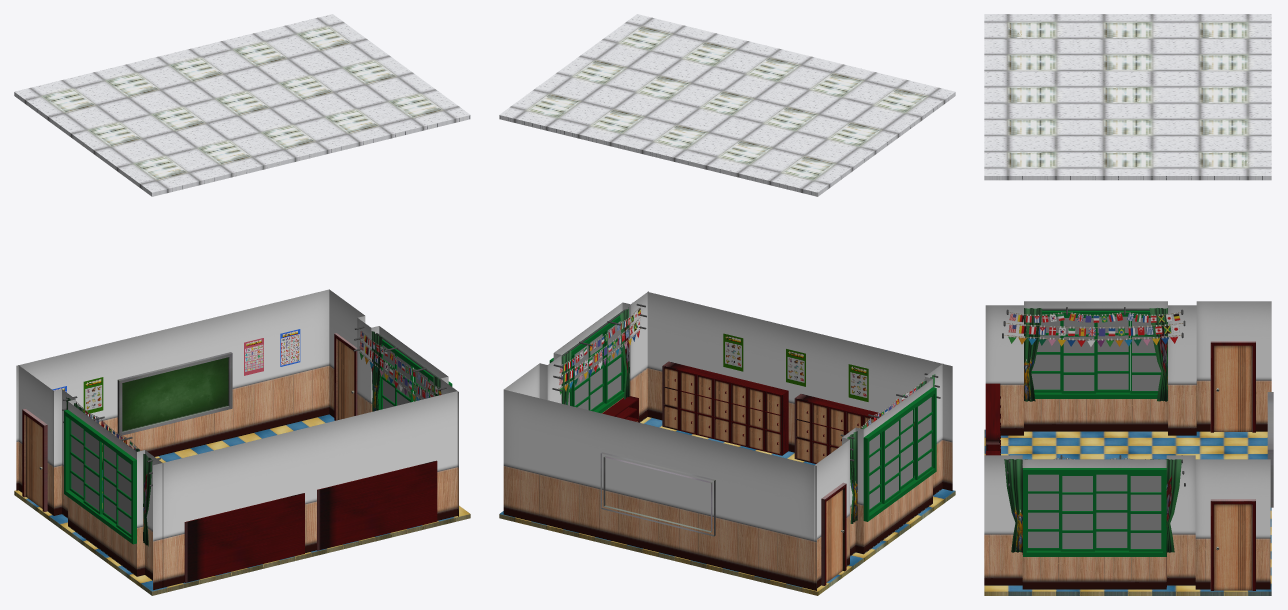
The model's file is kids-room_01.FBX.
The picture shows the model from 3 angles, left to right: view 1: azimuth 30°, elevation 25°; view 2: azimuth 150°, elevation 25°; view 3: azimuth 270°, elevation 25°; orthographic projection. The views are drawn at different scales.
Parts seen in each view (by area): view 1: Box022, Group009, Object006, Object019, Box036, Box021, Object011, Box001, Object008, Group010, Box029, Group003 (+12 smaller); view 2: Box022, Object006, Group009, Box036, Object019, Box001, Box021, Object008, Group010, Box029, Plane002, Object011 (+16 smaller); view 3: Box022, Object019, Object008, Box001, Object020, Group003, Group010, Plane008, Box002, Box024, Box023, Box025 (+20 smaller).
Part boxes in pixels (x1,y1,x2,y2): Box022: [14, 14, 470, 196]; Group009: [153, 391, 457, 590]; Object006: [16, 289, 329, 490]; Object019: [18, 365, 163, 587]; Box036: [317, 460, 437, 550]; Box021: [184, 493, 304, 582]; Object011: [117, 352, 232, 436]; Box001: [14, 414, 470, 595]; Object008: [357, 316, 458, 516]; Group010: [22, 408, 47, 511]; Box029: [64, 409, 136, 544]; Group003: [334, 333, 357, 420]; Box022: [499, 14, 955, 196]; Object006: [503, 389, 816, 590]; Group009: [647, 292, 952, 491]; Box036: [662, 361, 788, 455]; Object019: [814, 363, 943, 590]; Box001: [499, 417, 955, 595]; Box021: [794, 394, 914, 475]; Object008: [539, 291, 648, 422]; Group010: [821, 482, 846, 585]; Box029: [863, 387, 936, 521]; Plane002: [558, 306, 641, 394]; Object011: [600, 452, 715, 536]; Box022: [984, 14, 1271, 180]; Object019: [985, 301, 1271, 435]; Object008: [984, 455, 1195, 589]; Box001: [984, 429, 1271, 595]; Object020: [1195, 459, 1270, 589]; Group003: [1210, 499, 1255, 590]; Group010: [1210, 341, 1255, 432]; Plane008: [1004, 312, 1183, 346]; Box002: [1023, 468, 1166, 556]; Box024: [1096, 474, 1127, 547]; Box023: [1028, 474, 1058, 547]; Box025: [1130, 476, 1161, 548].
Size of the model in its own units: 801 by 967 by 604.
